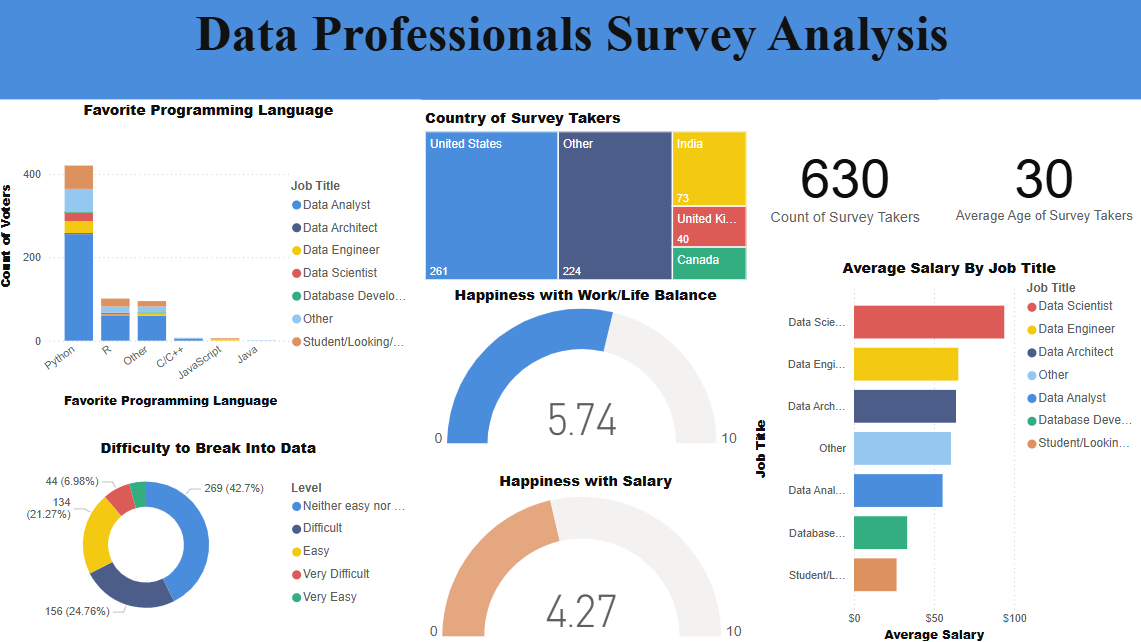

The page's visual inventory and layout, read from the dashboard file:
{"tool":"powerbi","page":{"name":"DASHBOARD","canvas":[1280,720],"ordinal":0},"visuals":[{"type":"textbox","box":[0,0,1280,112],"z":0},{"type":"card","fields":{"Values":["CountNonNull(Data Professional Survey.Unique ID)"]},"box":[838,114,210,182],"z":1000},{"type":"card","fields":{"Values":["Avg(Data Professional Survey.Q10 - Current Age)"]},"box":[1048,112,232,182],"z":2000},{"type":"barChart","title":"Average Salary By Job Title","fields":{"Category":["Data Professional Survey.Q1 - Which Title Best Fits your Current Role?.1"],"Y":["Avg(Data Professional Survey.Average Salary)"],"Series":["Data Professional Survey.Q1 - Which Title Best Fits your Current Role?.1"]},"box":[838.3,286.7,441.7,433.3],"z":3000},{"type":"columnChart","title":"Favorite Programming Language","fields":{"Category":["Data Professional Survey.Q5 - Favorite Programming Language.1"],"Y":["CountNonNull(Data Professional Survey.Unique ID)"],"Series":["Data Professional Survey.Q1 - Which Title Best Fits your Current Role?.1"]},"box":[0,111.7,471.7,348.3],"z":4000},{"type":"treemap","title":"Country of Survey Takers","fields":{"Group":["Data Professional Survey.Q11 - Which Country do you live in?.1"],"Values":["CountNonNull(Data Professional Survey.Q11 - Which Country do you live in?.1)"]},"box":[471.7,120,366.7,196.7],"z":5000},{"type":"gauge","title":" Happiness with Work/Life Balance","fields":{"Y":["Avg(Data Professional Survey.Q6 - How Happy are you in your Current Position with the following? (Work/Life Bal"],"MinValue":["Min(Data Professional Survey.Q6 - How Happy are you in your Current Position with the following? (Work/Life Balance))"],"MaxValue":["Max(Data Professional Survey.Q6 - How Happy are you in your Current Position with the following? (Work/Life Balance))"]},"box":[471.7,316.7,366.7,186.7],"z":6000},{"type":"gauge","title":"Happiness with Salary","fields":{"Y":["Avg(Data Professional Survey.Q6 - How Happy are you in your Current Position with the following? (Salary))"],"MinValue":["Min(Data Professional Survey.Q6 - How Happy are you in your Current Position with the following? (Salary))"],"MaxValue":["Max(Data Professional Survey.Q6 - How Happy are you in your Current Position with the following? (Salary))"]},"box":[471.7,523.3,366.7,196.7],"z":7000},{"type":"donutChart","title":"Difficulty to Break Into Data","fields":{"Category":["Data Professional Survey.Q7 - How difficult was it for you to break into Data?"],"Y":["CountNonNull(Data Professional Survey.Q7 - How difficult was it for you to break into Data?)"]},"box":[0,486.7,471.7,216.7],"z":8000}]}

Visuals, with their boxes in screenshot pixels (x1, y1, x2, y2), scaled from the page's 1280x720 canvas onto the 1141x642 screenshot:
textbox: rect(0, 0, 1140, 100)
card - CountNonNull(Data Professional Survey.Unique ID): rect(747, 102, 934, 264)
card - Avg(Data Professional Survey.Q10 - Current Age): rect(934, 100, 1140, 262)
"Average Salary By Job Title" barChart: rect(747, 256, 1140, 641)
"Favorite Programming Language" columnChart: rect(0, 100, 420, 410)
"Country of Survey Takers" treemap: rect(420, 107, 747, 282)
" Happiness with Work/Life Balance" gauge: rect(420, 282, 747, 449)
"Happiness with Salary" gauge: rect(420, 467, 747, 641)
"Difficulty to Break Into Data" donutChart: rect(0, 434, 420, 627)
